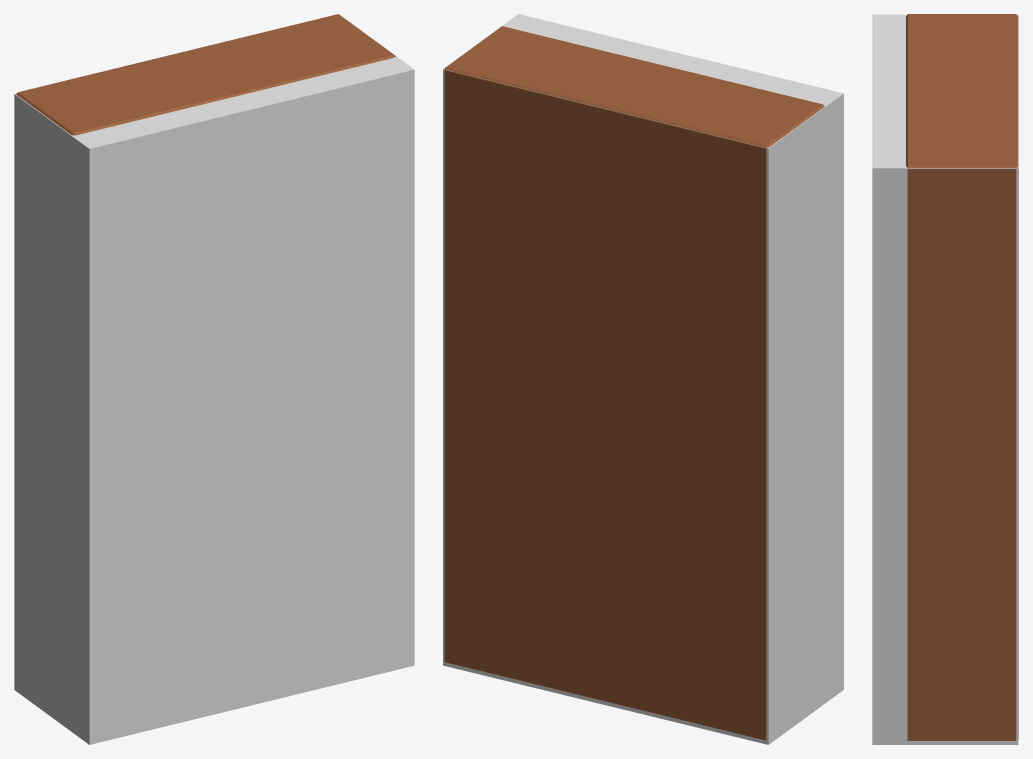
File: shelf-b.glb
3 renders of one model, left to right at view 1: azimuth 30°, elevation 25°; view 2: azimuth 150°, elevation 25°; view 3: azimuth 270°, elevation 25°, orthographic. The views are drawn at different scales.
Visible parts, largest first — view 1: Shelf B_col, Shelf B; view 2: Shelf B, Shelf B_col; view 3: Shelf B, Shelf B_col.
Boxes of the visible parts, x1=… form: Shelf B_col: x1=14, y1=16, x2=414, y2=744; Shelf B: x1=16, y1=14, x2=395, y2=135; Shelf B: x1=444, y1=26, x2=824, y2=740; Shelf B_col: x1=443, y1=14, x2=843, y2=744; Shelf B: x1=906, y1=14, x2=1018, y2=740; Shelf B_col: x1=872, y1=14, x2=1018, y2=744.
Bounding box in the file's own units: 6.15 × 10.79 × 2.47.
